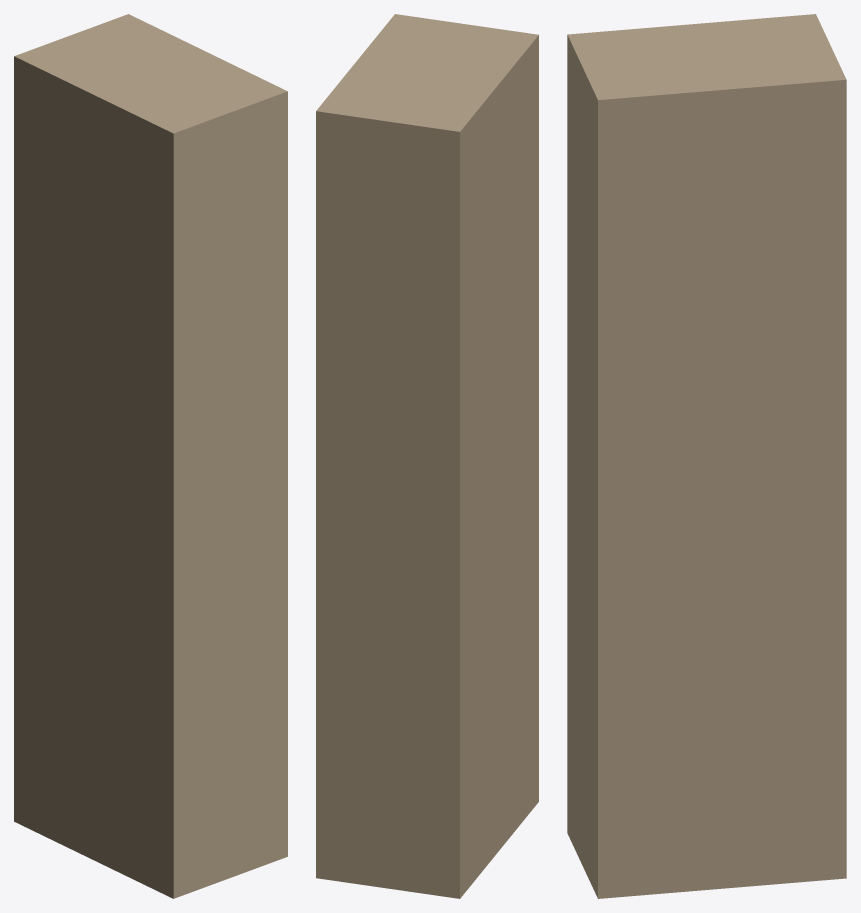
Rendered from bld_393484299.dae.
3 renders of one model, left to right at view 1: azimuth 30°, elevation 25°; view 2: azimuth 150°, elevation 25°; view 3: azimuth 270°, elevation 25°, orthographic. The views are drawn at different scales.
Parts seen in each view (by area): view 1: bld_393484299; view 2: bld_393484299; view 3: bld_393484299.
Boxes of the visible parts, x1,y1,x2,y2 form: bld_393484299: [14, 14, 287, 898]; bld_393484299: [316, 14, 538, 898]; bld_393484299: [567, 14, 846, 898].
Size of the model in its own units: 1.85 by 2.53 by 8.
